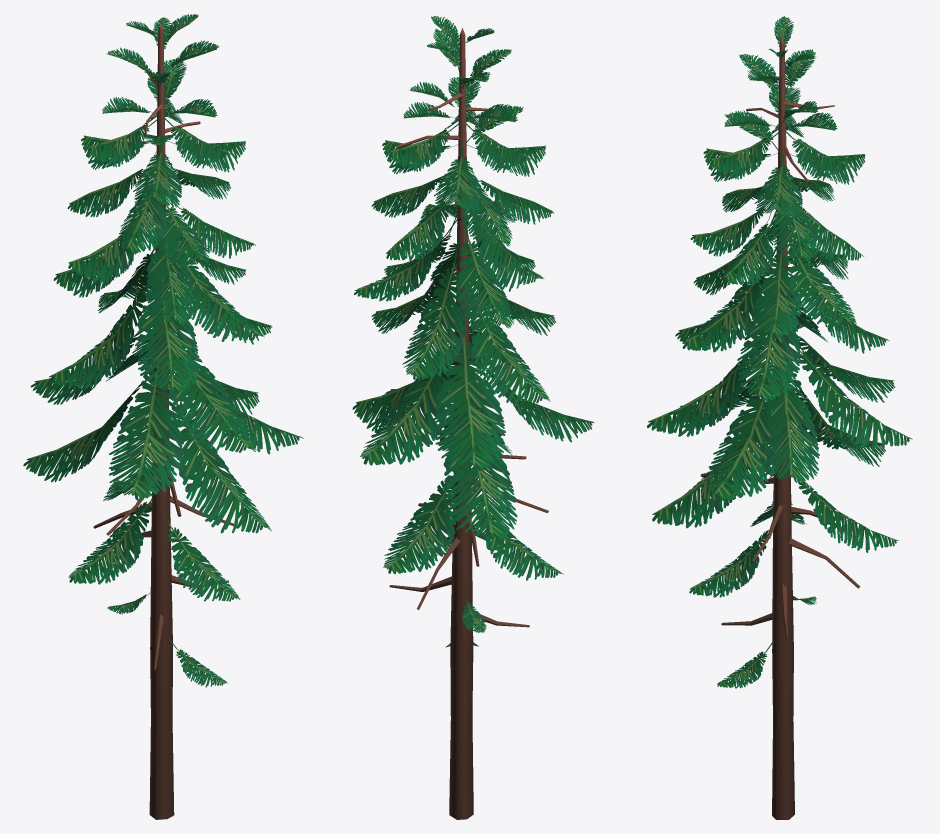
Rendered from Pine_Tree_2H.fbx.
3 views of the same model, side by side, from view 1: azimuth 30°, elevation 25°; view 2: azimuth 150°, elevation 25°; view 3: azimuth 270°, elevation 25° (orthographic).
Visible parts, largest first — view 1: Pine_Tree_2H; view 2: Pine_Tree_2H; view 3: Pine_Tree_2H.
Boxes of the visible parts, x1,y1,x2,y2 form: Pine_Tree_2H: [23, 14, 303, 819]; Pine_Tree_2H: [352, 16, 593, 819]; Pine_Tree_2H: [647, 16, 912, 819].
Bounding box in the file's own units: 3.02 × 10.28 × 3.46.
